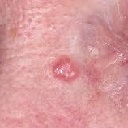Carcinoma: (51, 56, 82, 84)
